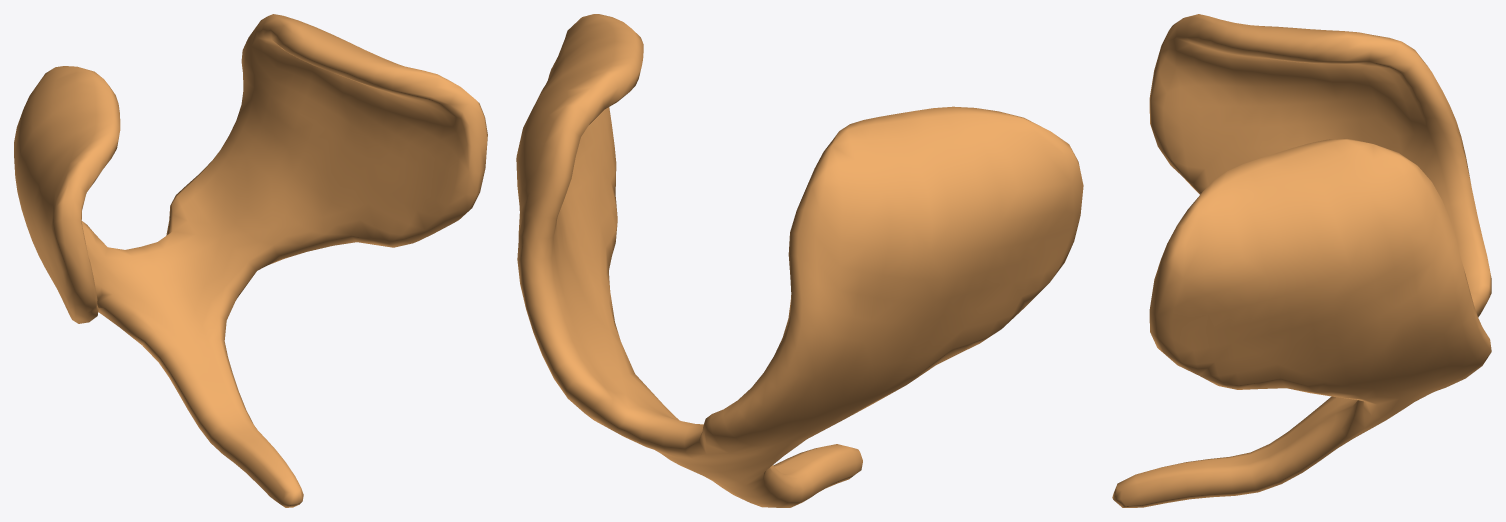
3 renders of one model, left to right at view 1: azimuth 30°, elevation 25°; view 2: azimuth 150°, elevation 25°; view 3: azimuth 270°, elevation 25°, orthographic. The views are drawn at different scales.
Visible parts, largest first — view 1: 甲状腺; view 2: 甲状腺; view 3: 甲状腺.
Boxes of the visible parts, box(x1,y1,x2,y2) form: 甲状腺: box(14, 14, 487, 507); 甲状腺: box(516, 14, 1083, 507); 甲状腺: box(1112, 14, 1491, 507).
Bounding box in the file's own units: 0.0716 × 0.0612 × 0.0503.
